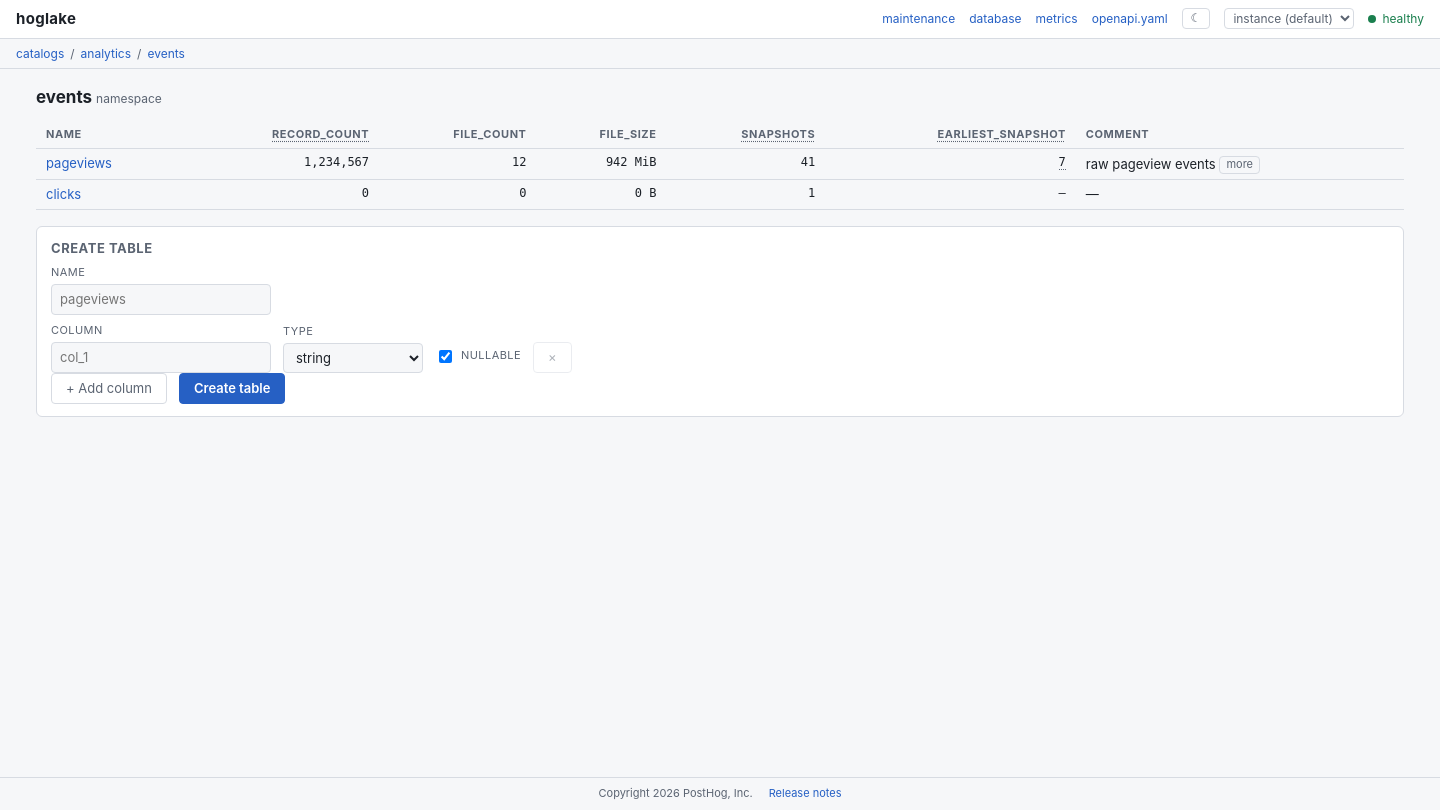
it: NamespacePage › clamps a comment to its first line and expands it on demand
The width and height of the screenshot is (1440, 810).
Expected: the text "raw pageview events" is shown, [1086, 155, 1216, 174]
Expected: the text "kept for 90 days" is not shown
What coordinates should you click on to do the following:
click the button "more"
I would click on:
 (1240, 165)
Its box is [1219, 156, 1260, 174].
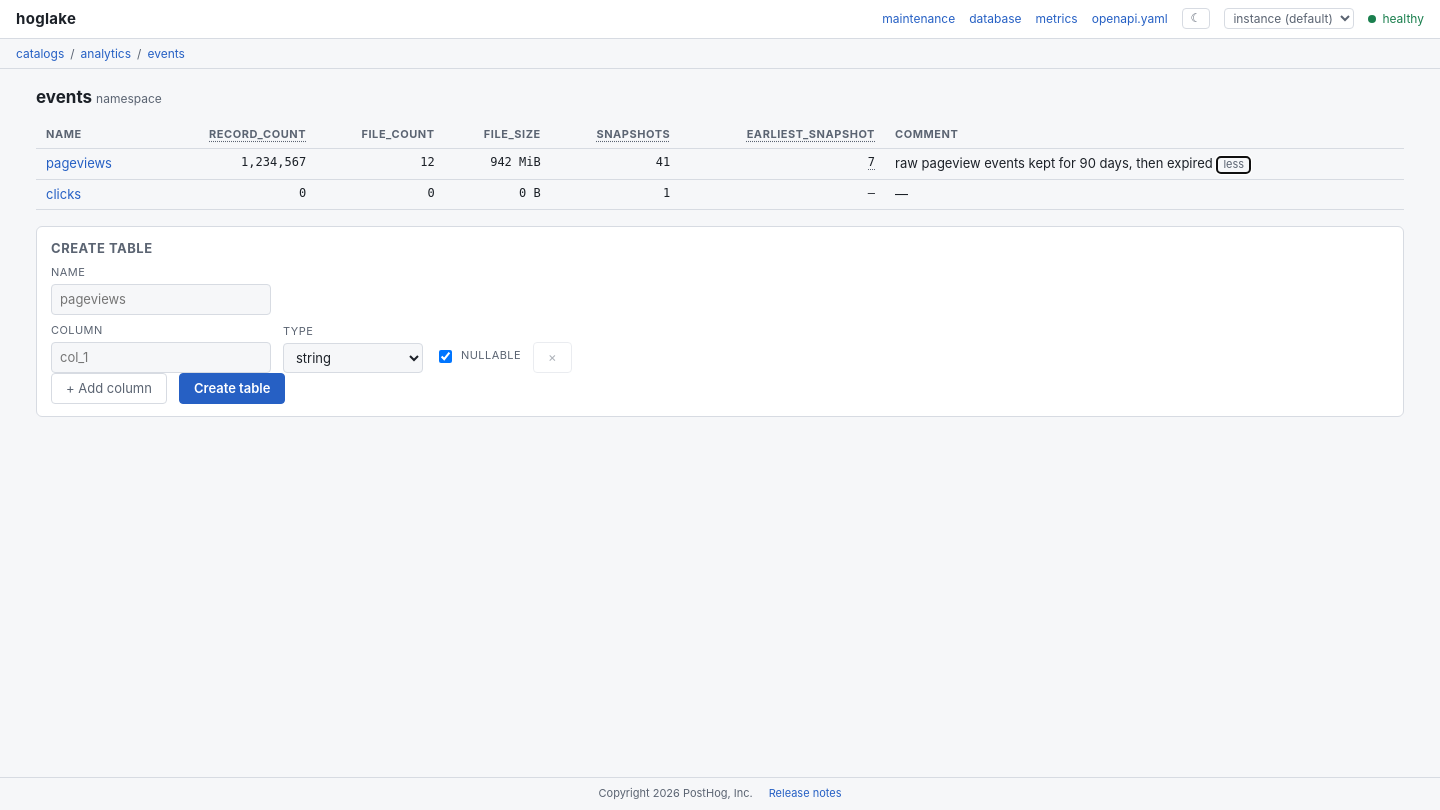
Result: the text "raw pageview events kept for 90 days, then expired less" is shown at [895, 155, 1251, 171]
...and back again, so the row returns to one line.
What coordinates should you click on to do the following:
click the button "less"
I would click on:
 (1234, 165)
Its box is [1216, 156, 1251, 174].
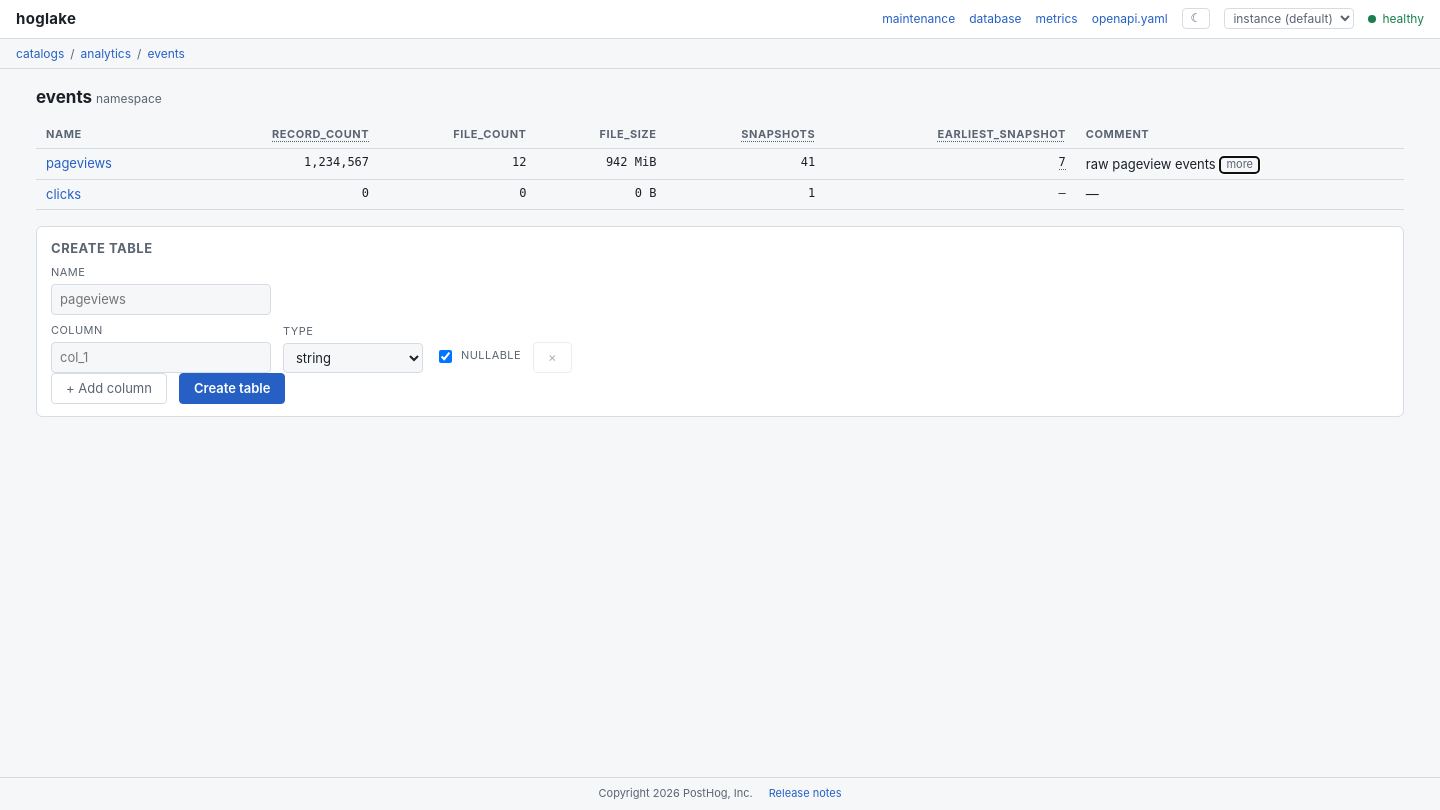
Result: the text "kept for 90 days" is gone
